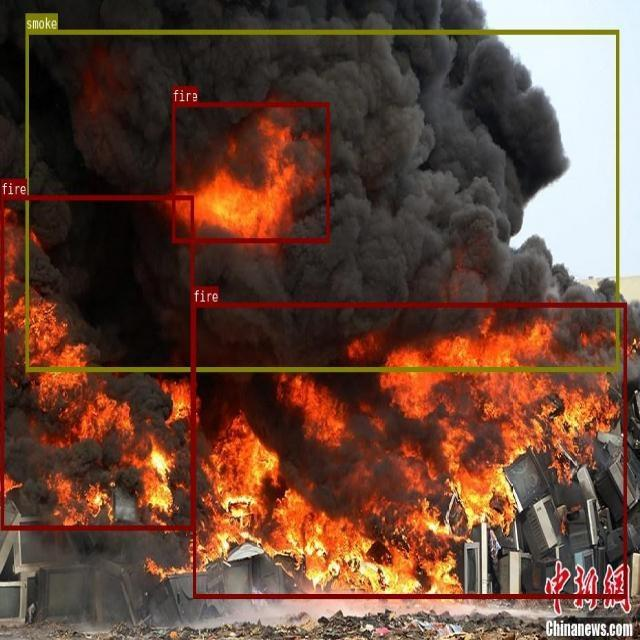fire: (193, 302, 626, 598), (0, 195, 193, 529), (172, 102, 329, 242)
smoke: (25, 29, 618, 370)
